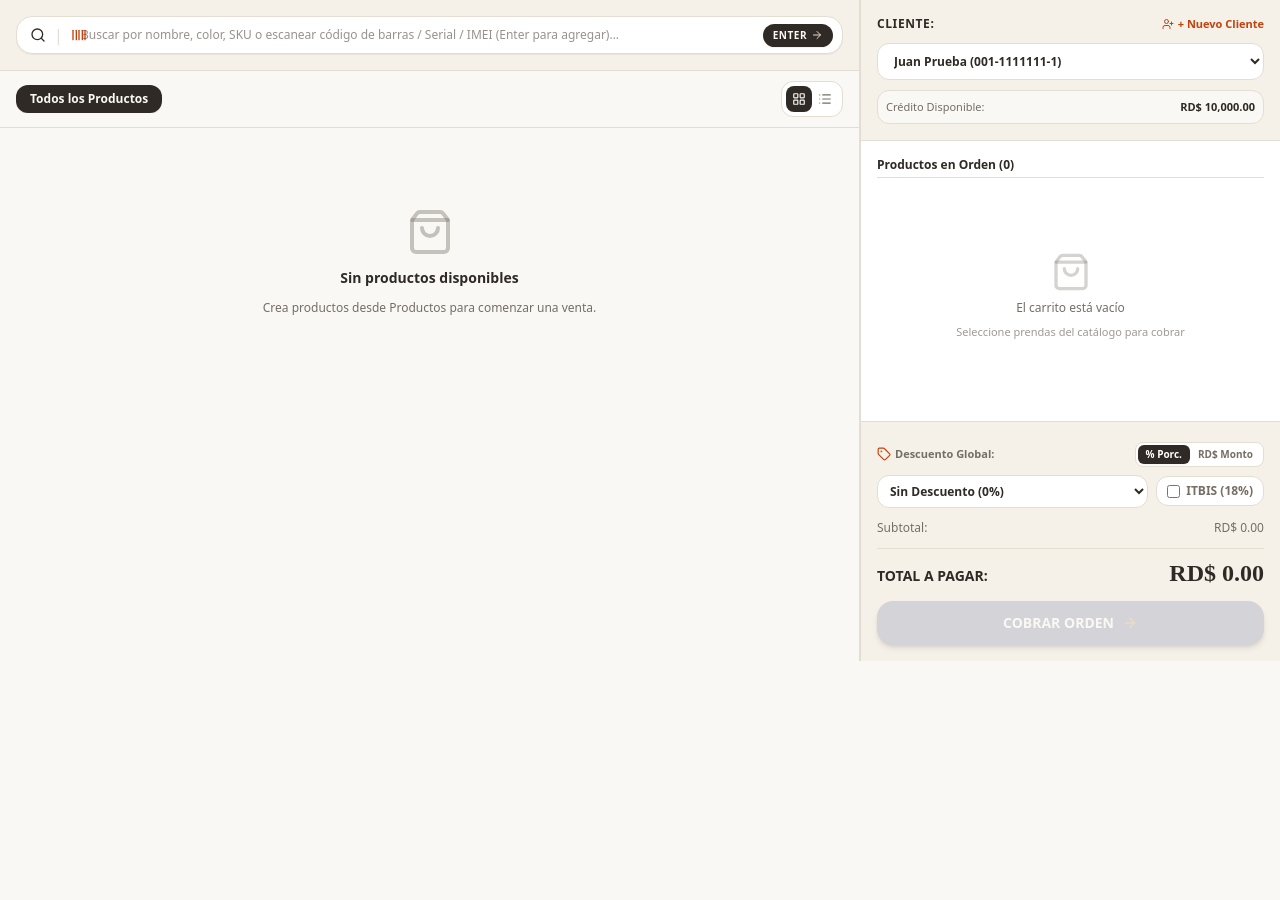
Test: POSView -- cliente nuevo queda seleccionado automáticamente › cancelar la creación: el cliente seleccionado anteriormente no cambia
Expected: the dropdown named "Cliente" shows "Juan Prueba (001-1111111-1)", top-left (877, 42), bottom-right (1264, 80)
What coordinates should you click on to do the following:
click the button "+ Nuevo Cliente"
I would click on:
 (1213, 24)
Its box is top-left (1162, 16), bottom-right (1264, 32).
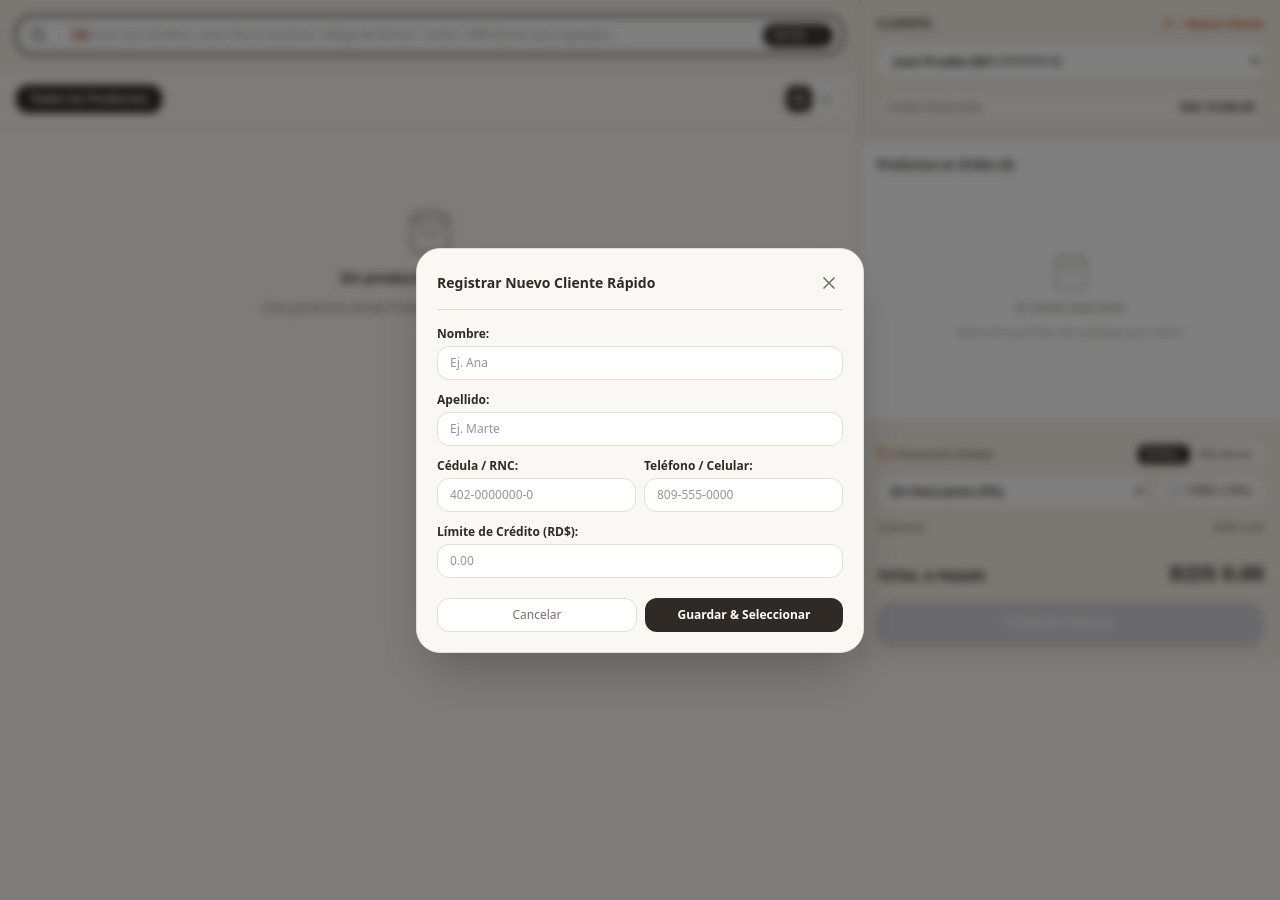
Result: the heading "Registrar Nuevo Cliente Rápido" is shown at top-left (437, 272), bottom-right (655, 292)
What coordinates should you click on to do the following:
click the button "Cancelar"
I would click on:
 (537, 614)
Its box is top-left (437, 598), bottom-right (637, 632).
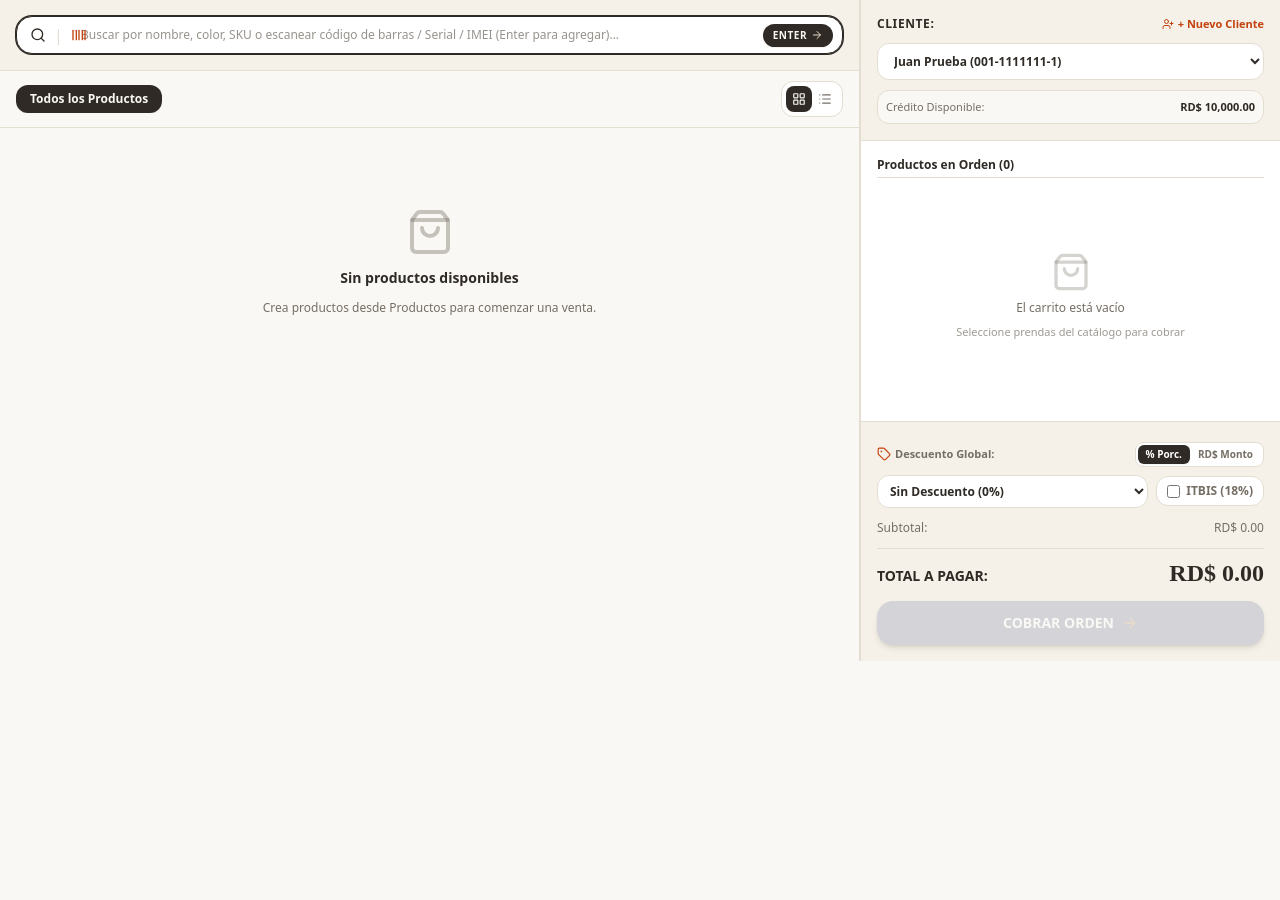
Expected: the dropdown named "Cliente" shows "Juan Prueba (001-1111111-1)", top-left (877, 42), bottom-right (1264, 80)
Result: the heading "Registrar Nuevo Cliente Rápido" is gone
